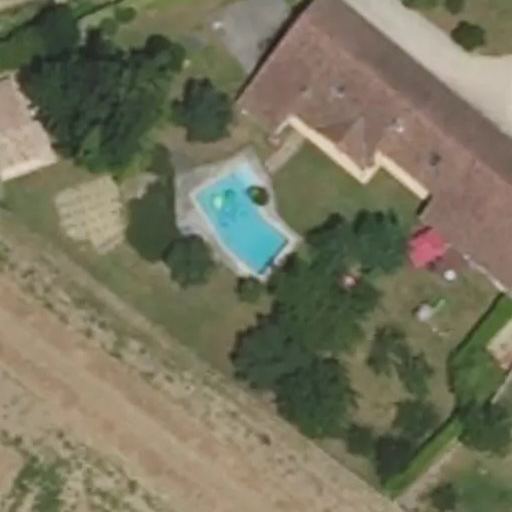pool: (208, 217, 303, 266)
